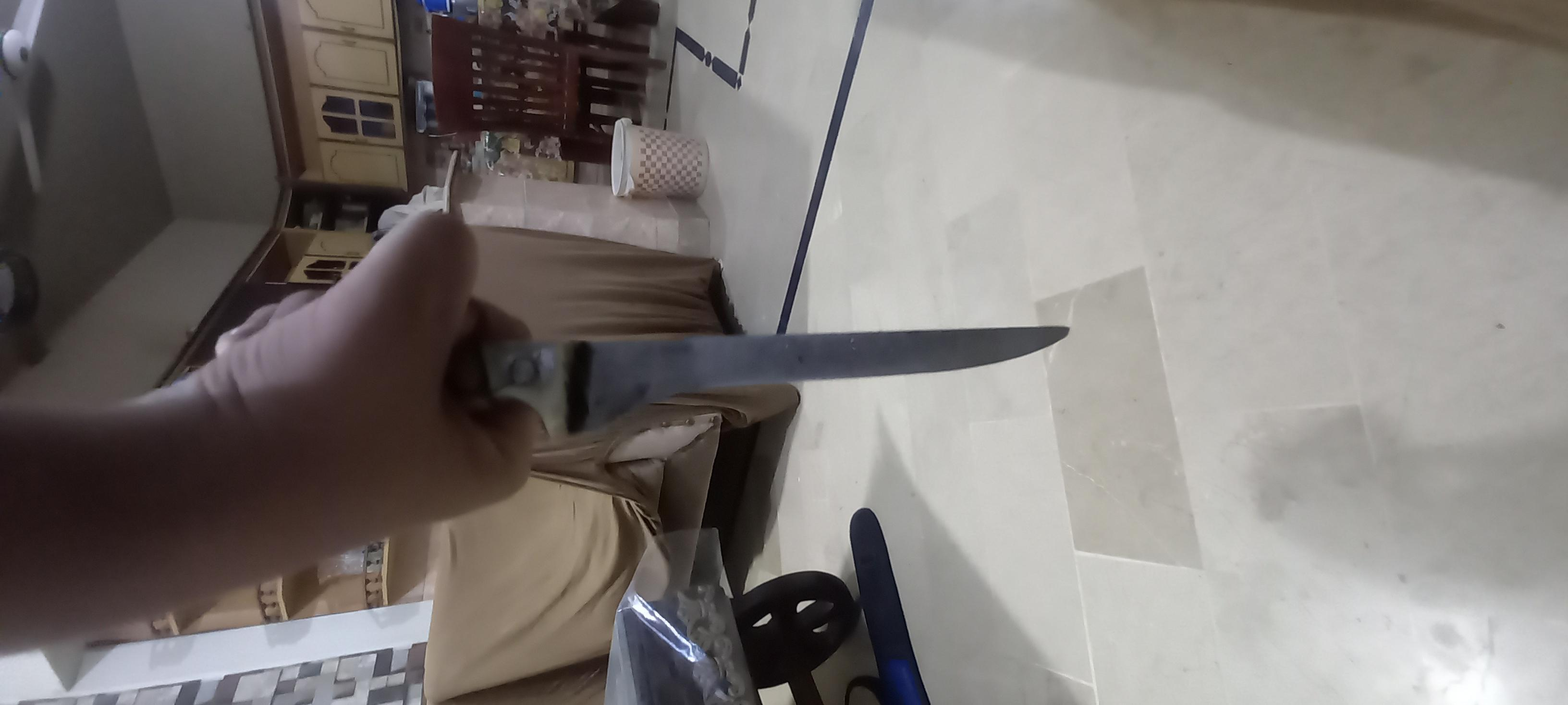knives: (612, 90, 1059, 489)
